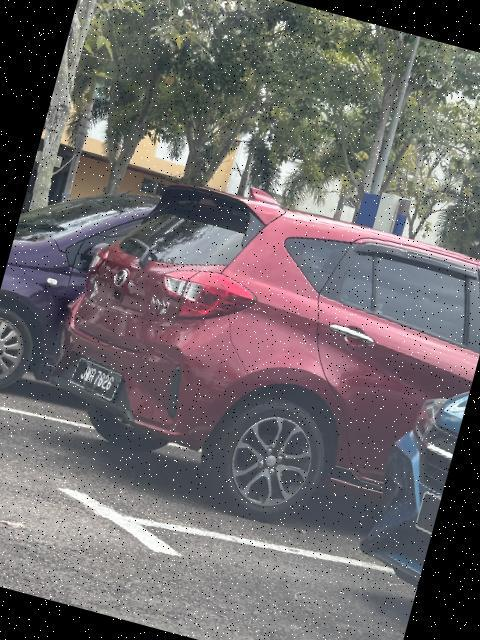JMR7626: (64, 355, 127, 406)
License_Plate: (64, 355, 127, 406)
car: (42, 147, 480, 549)
